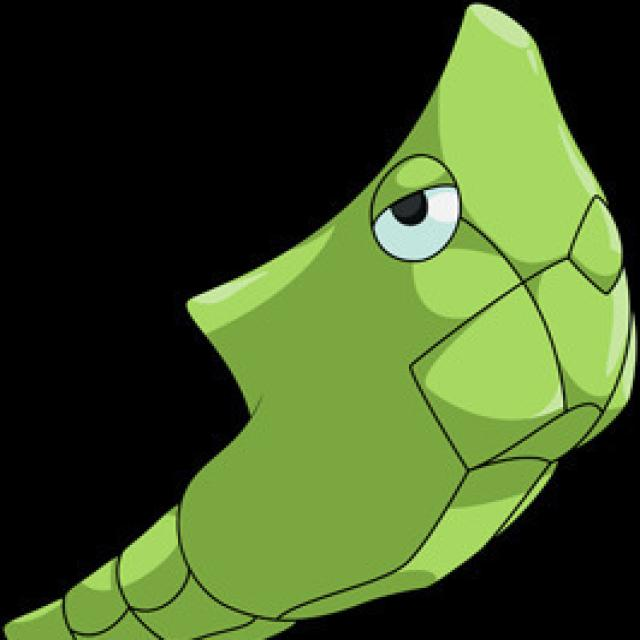Metapod: (219, 0, 640, 640)
